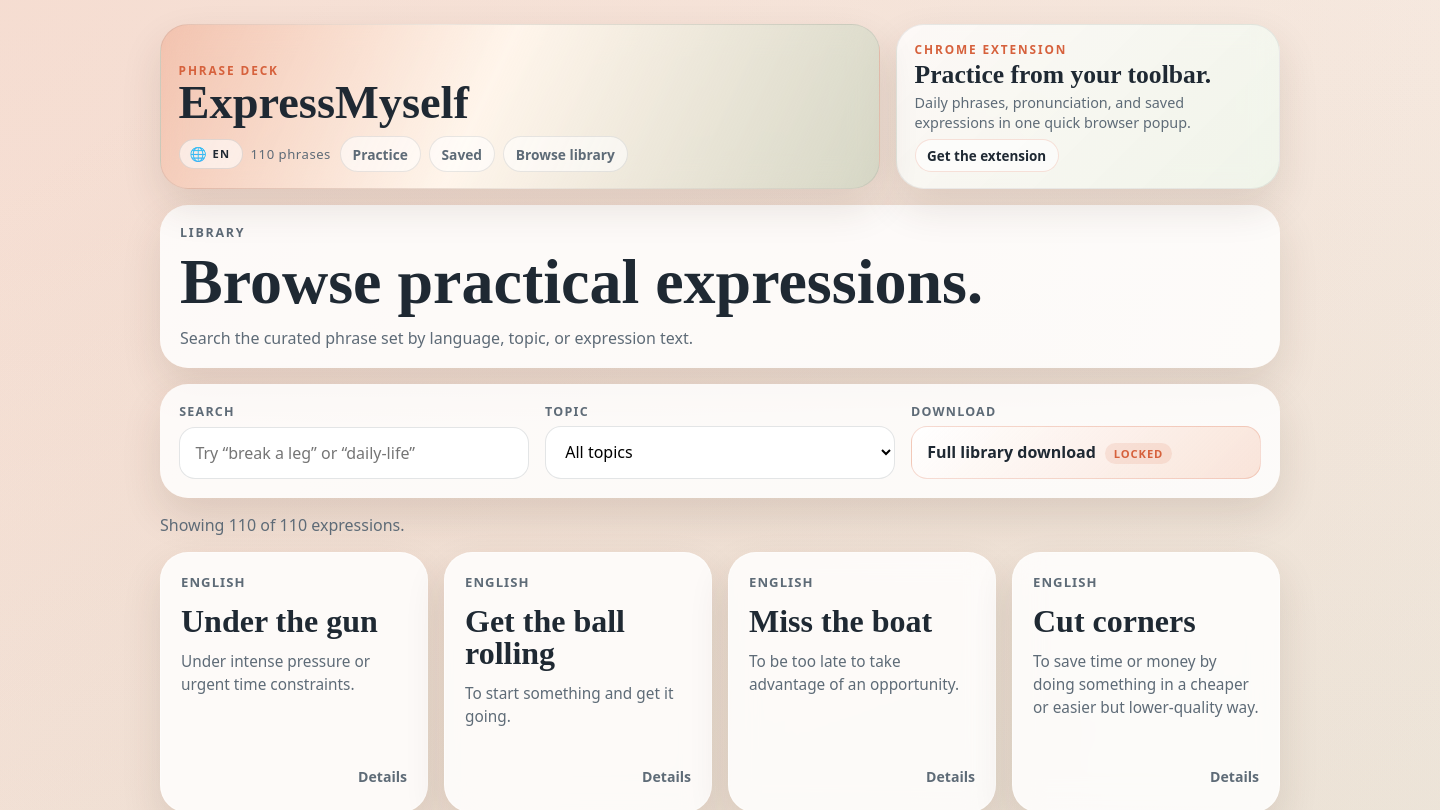
LibraryExperience › shows a locked full-library download menu
Click the button "Full library download Locked" at (1086, 452), box [911,426,1261,479]
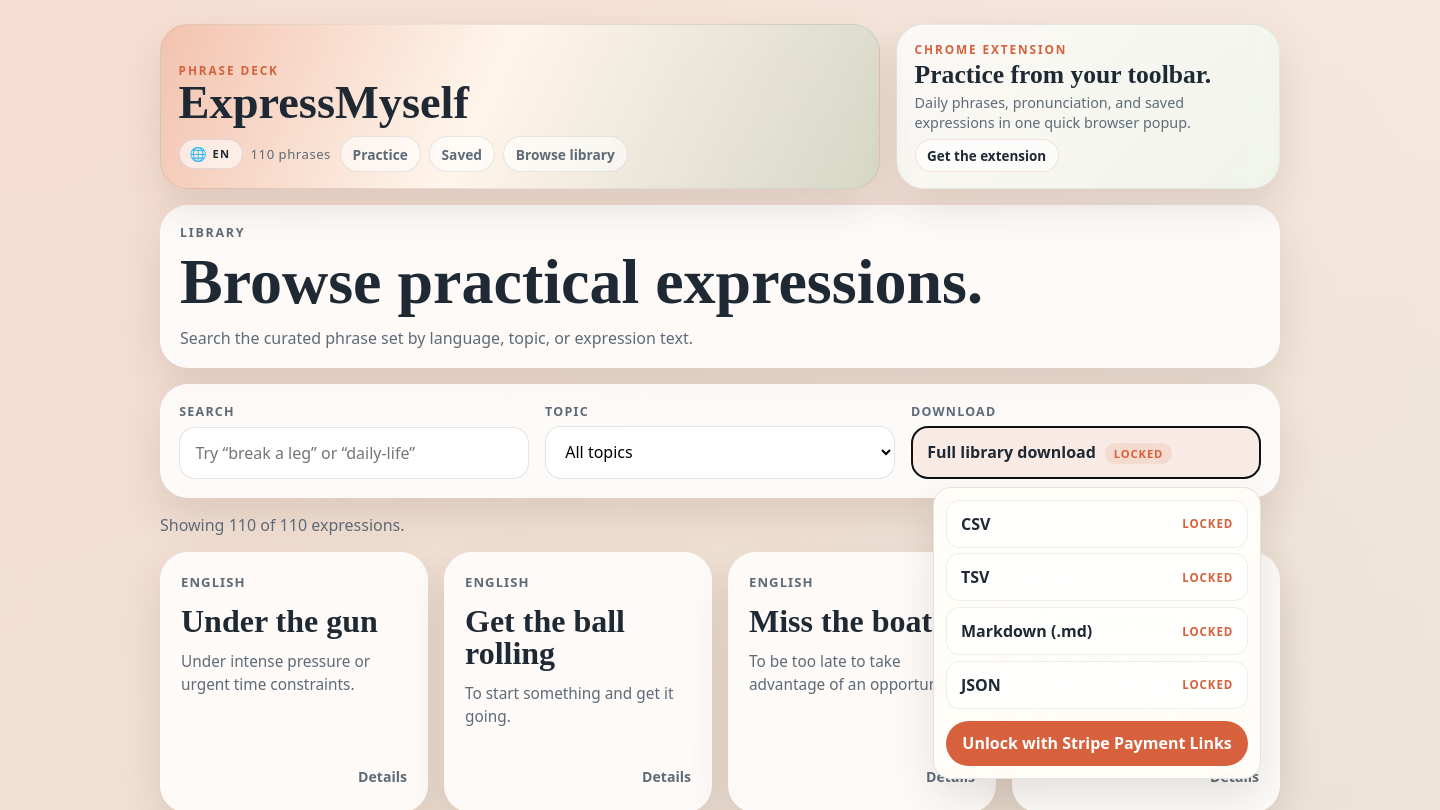
Check: the menu named "Locked library download" is shown, box [933,487,1261,779]
